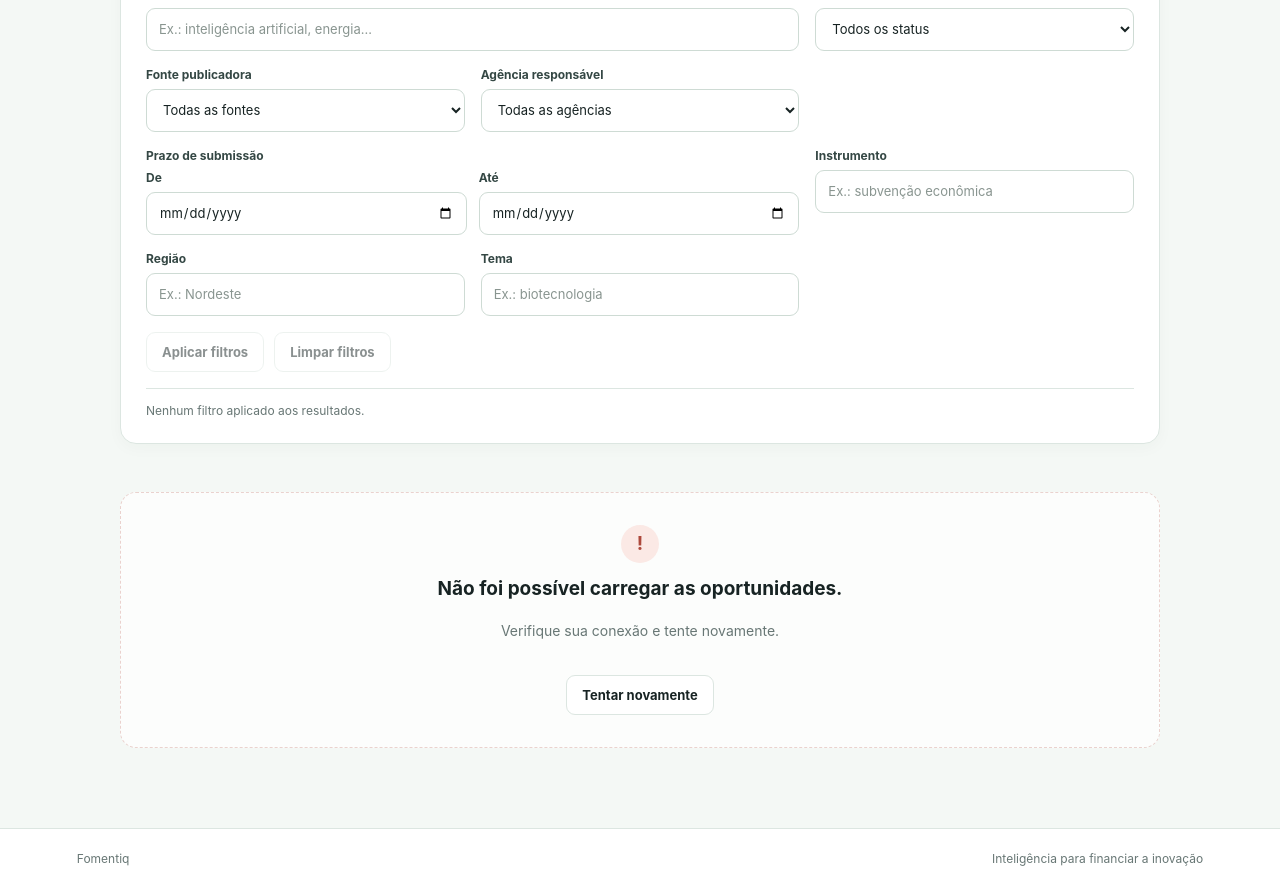
Scenario: opportunity catalog › shows a safe error message and lets the user retry
(page scrolled)
Check: the message shows "Não foi possível carregar as oportunidades", box [438, 577, 842, 600]
Click the button "Tentar novamente" at (640, 695), box [566, 675, 714, 715]
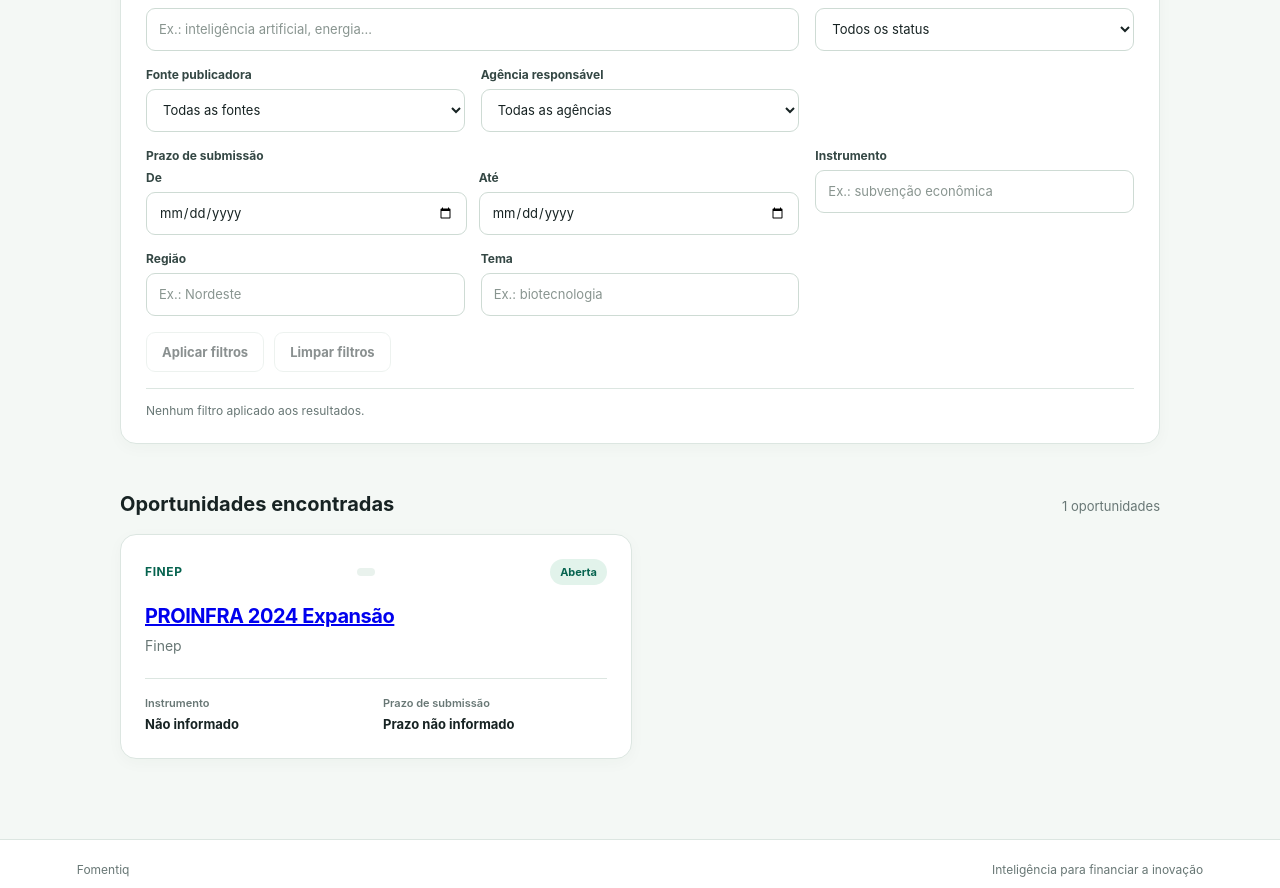
Check: the heading "PROINFRA 2024 Expansão" is shown, box [145, 604, 394, 628]
